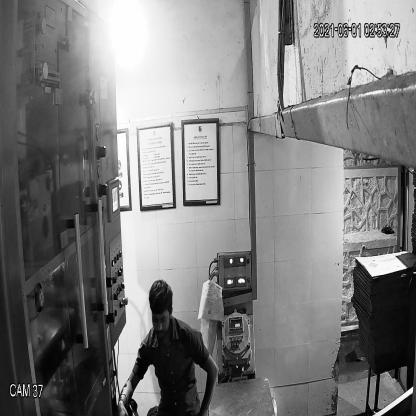no_goggles: (150, 308, 172, 330)
